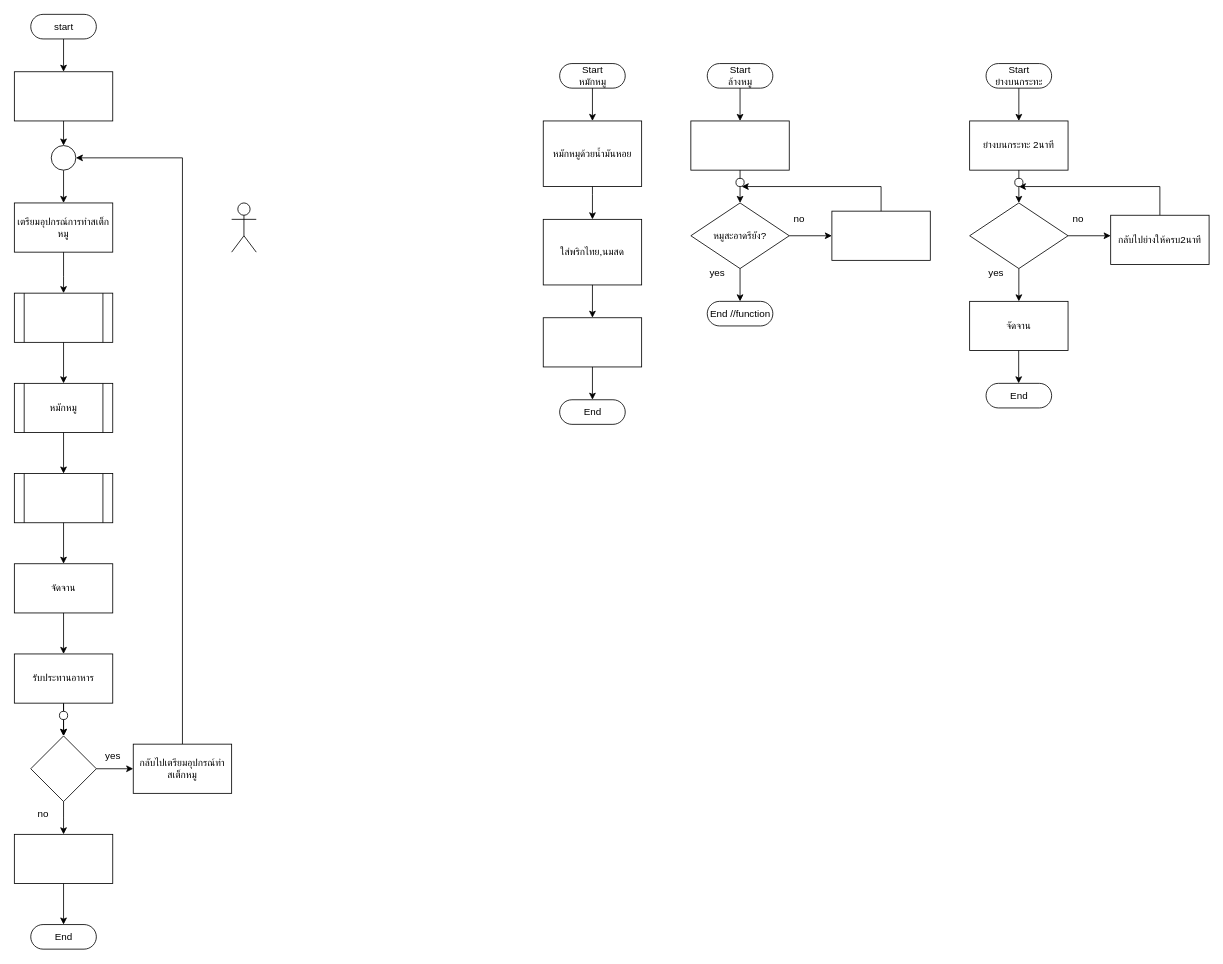
The diagram is 1223 pixels wide and 964 high, and some of its shapes have lost their labels. Here are the shapes that lost their labels. From the top down, the box of each, then its label:
(14, 71, 113, 121): ซื้ออุปกรณ์
(690, 120, 789, 170): นำหมูใส่กะละมังสแตนเลส
(231, 202, 256, 252): Actor
(831, 210, 930, 260): ล้างใหม่
(969, 202, 1068, 269): ครบ2นาทีสุกยัง?
(14, 292, 113, 342): ล้างหมู
(542, 317, 642, 367): หมักไว้1คืน
(14, 473, 113, 523): ย่างบนกระทะ
(30, 735, 96, 802): ไม่อิ่ม
(14, 834, 113, 884): ล้างจาน
